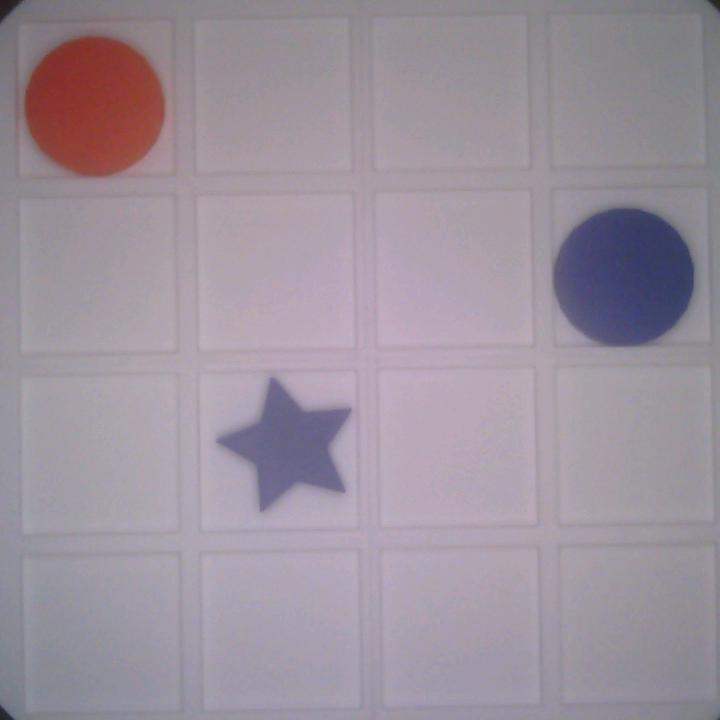Blue circle: (554, 203, 695, 344)
Blue star: (213, 373, 353, 516)
Orange circle: (21, 32, 175, 179)
